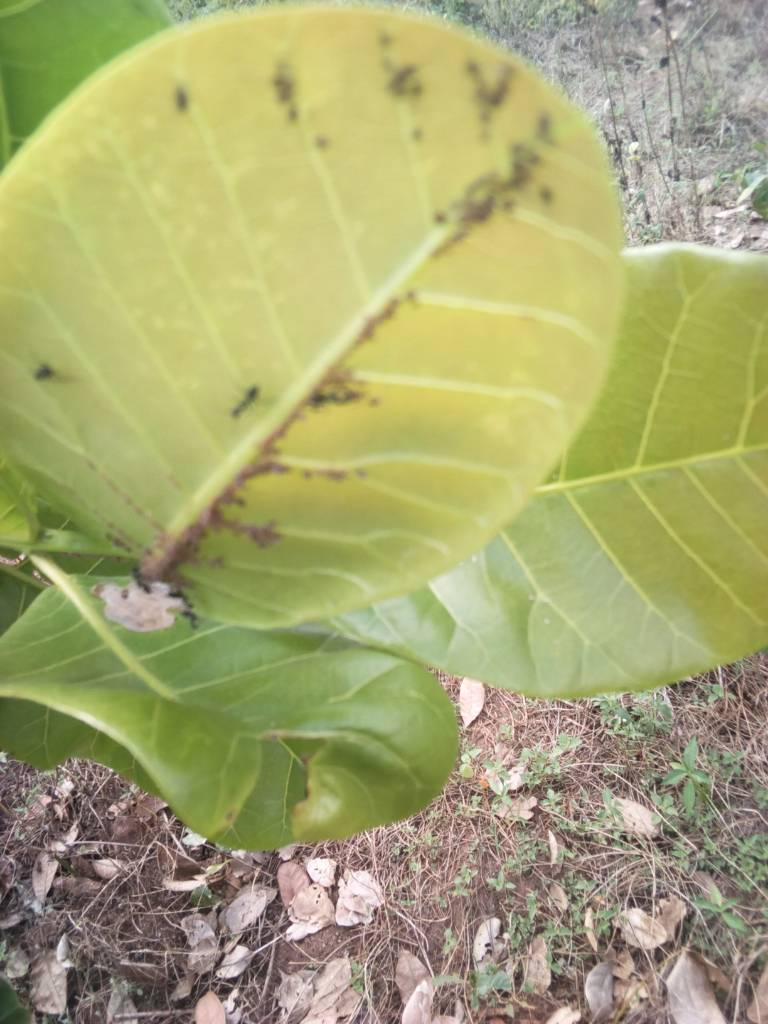Aphis gossypi: (1, 575, 485, 855)
